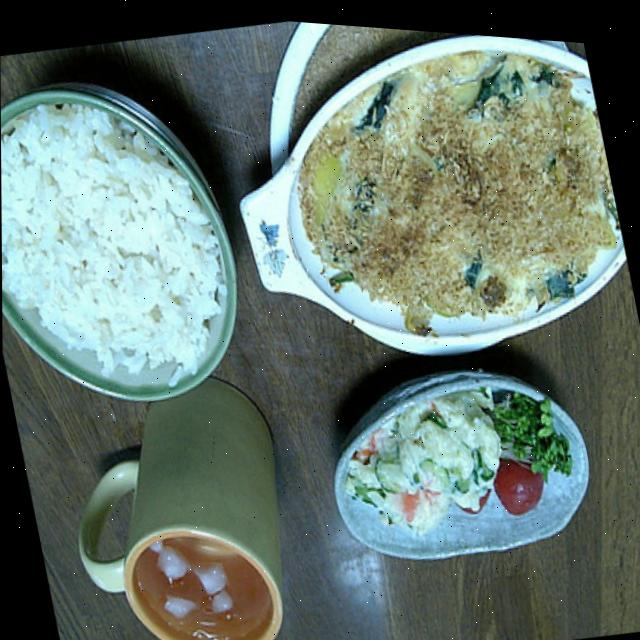米饭主食: (0, 63, 259, 428)
蔬菜料理: (326, 349, 525, 585)
